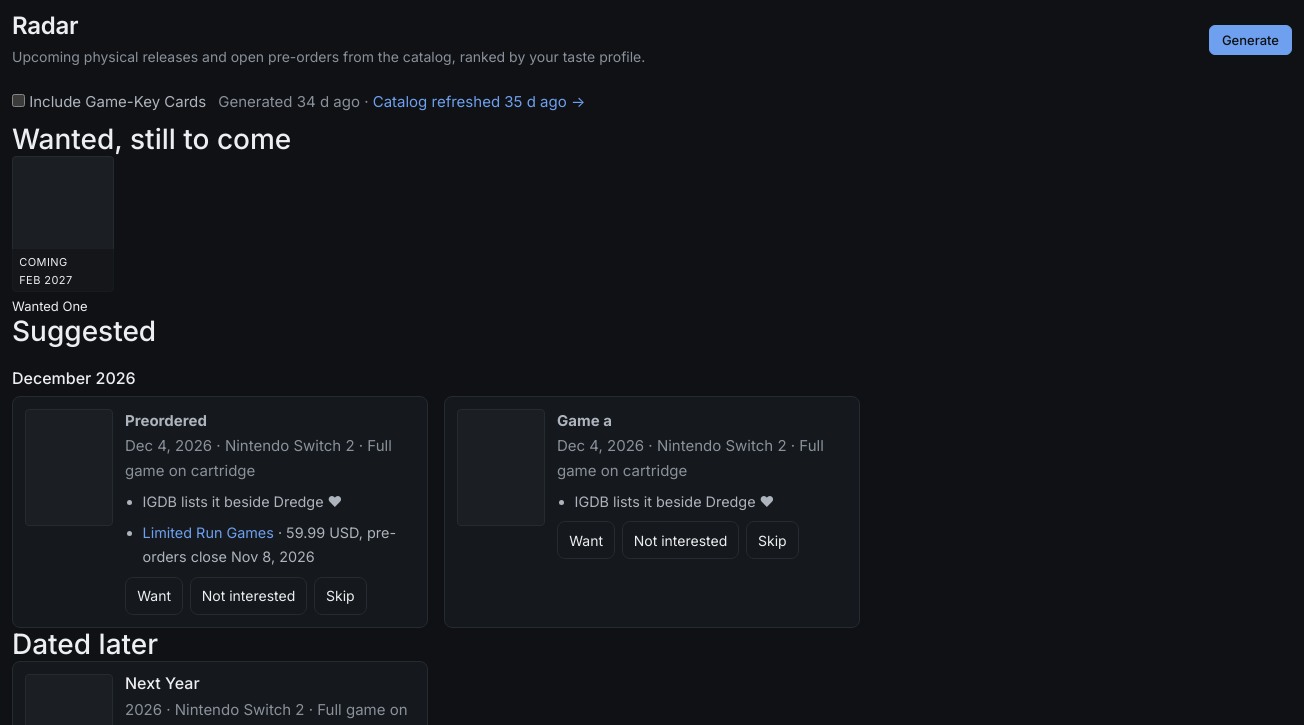
AdminRadar › says a watched game is already on the shelf, not a refresh
The width and height of the screenshot is (1304, 725).
Expected: the heading "Game a" is shown, left=557, top=411, right=612, bottom=430
Click the button with aria-label "Want Game a": x=586, y=540 left=557, top=522, right=615, bottom=559
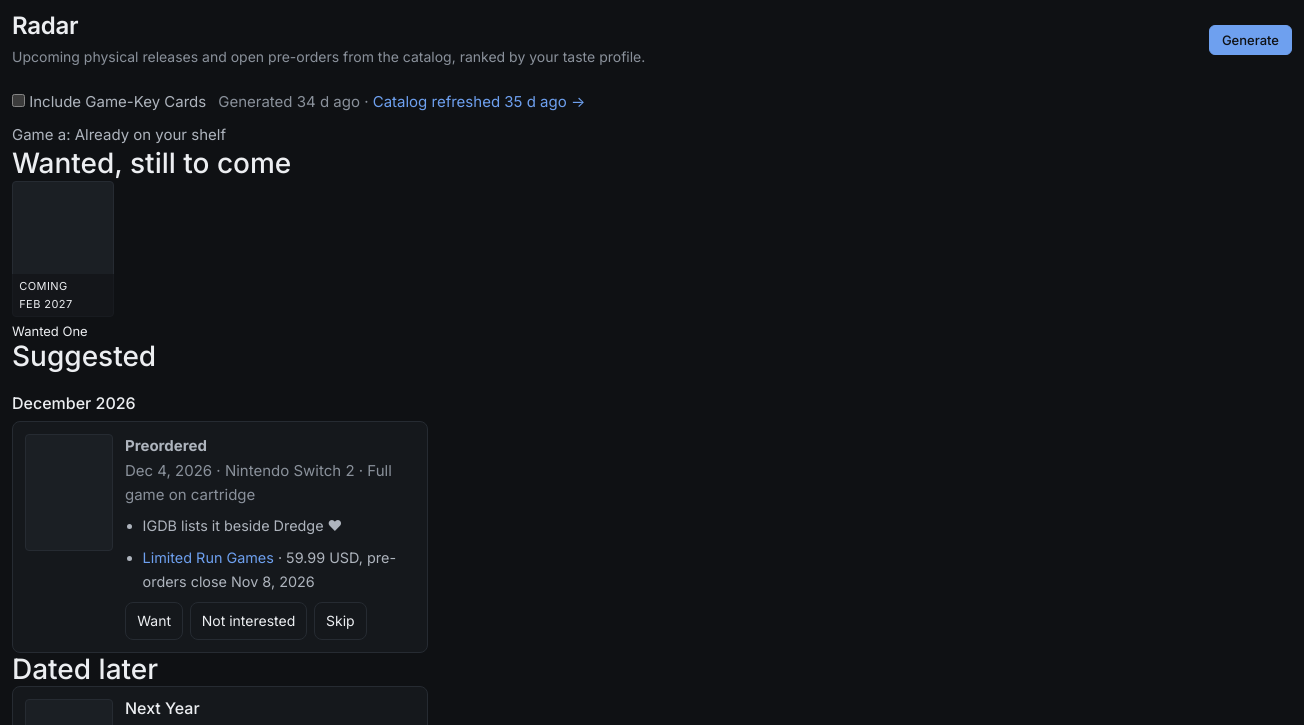
Expected: the message reads "Game a: Already on your shelf", left=12, top=125, right=226, bottom=144
